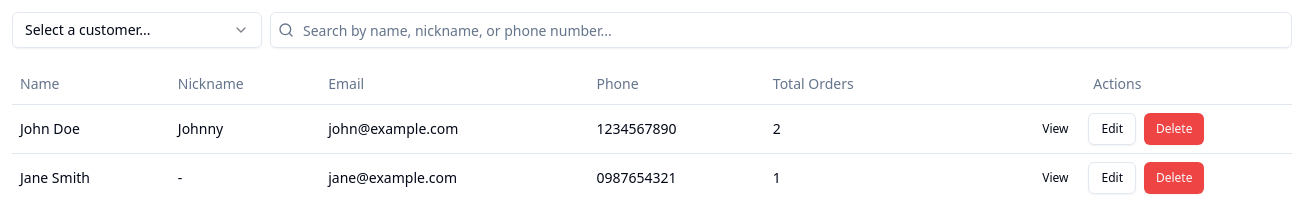
Test: CustomerTable › shows no results message when no customers match search
Type "xyz" into the field with placeholder "Search by name, nickname, or phone number..." at (781, 30), box [270,12,1292,48]
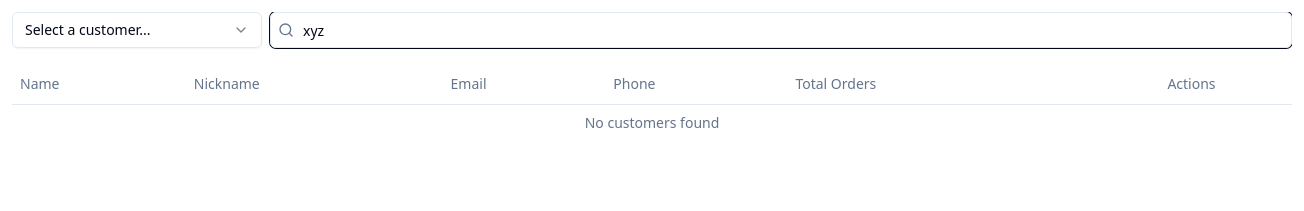
Check: the text "No customers found" is shown, box [12,104,1292,140]
